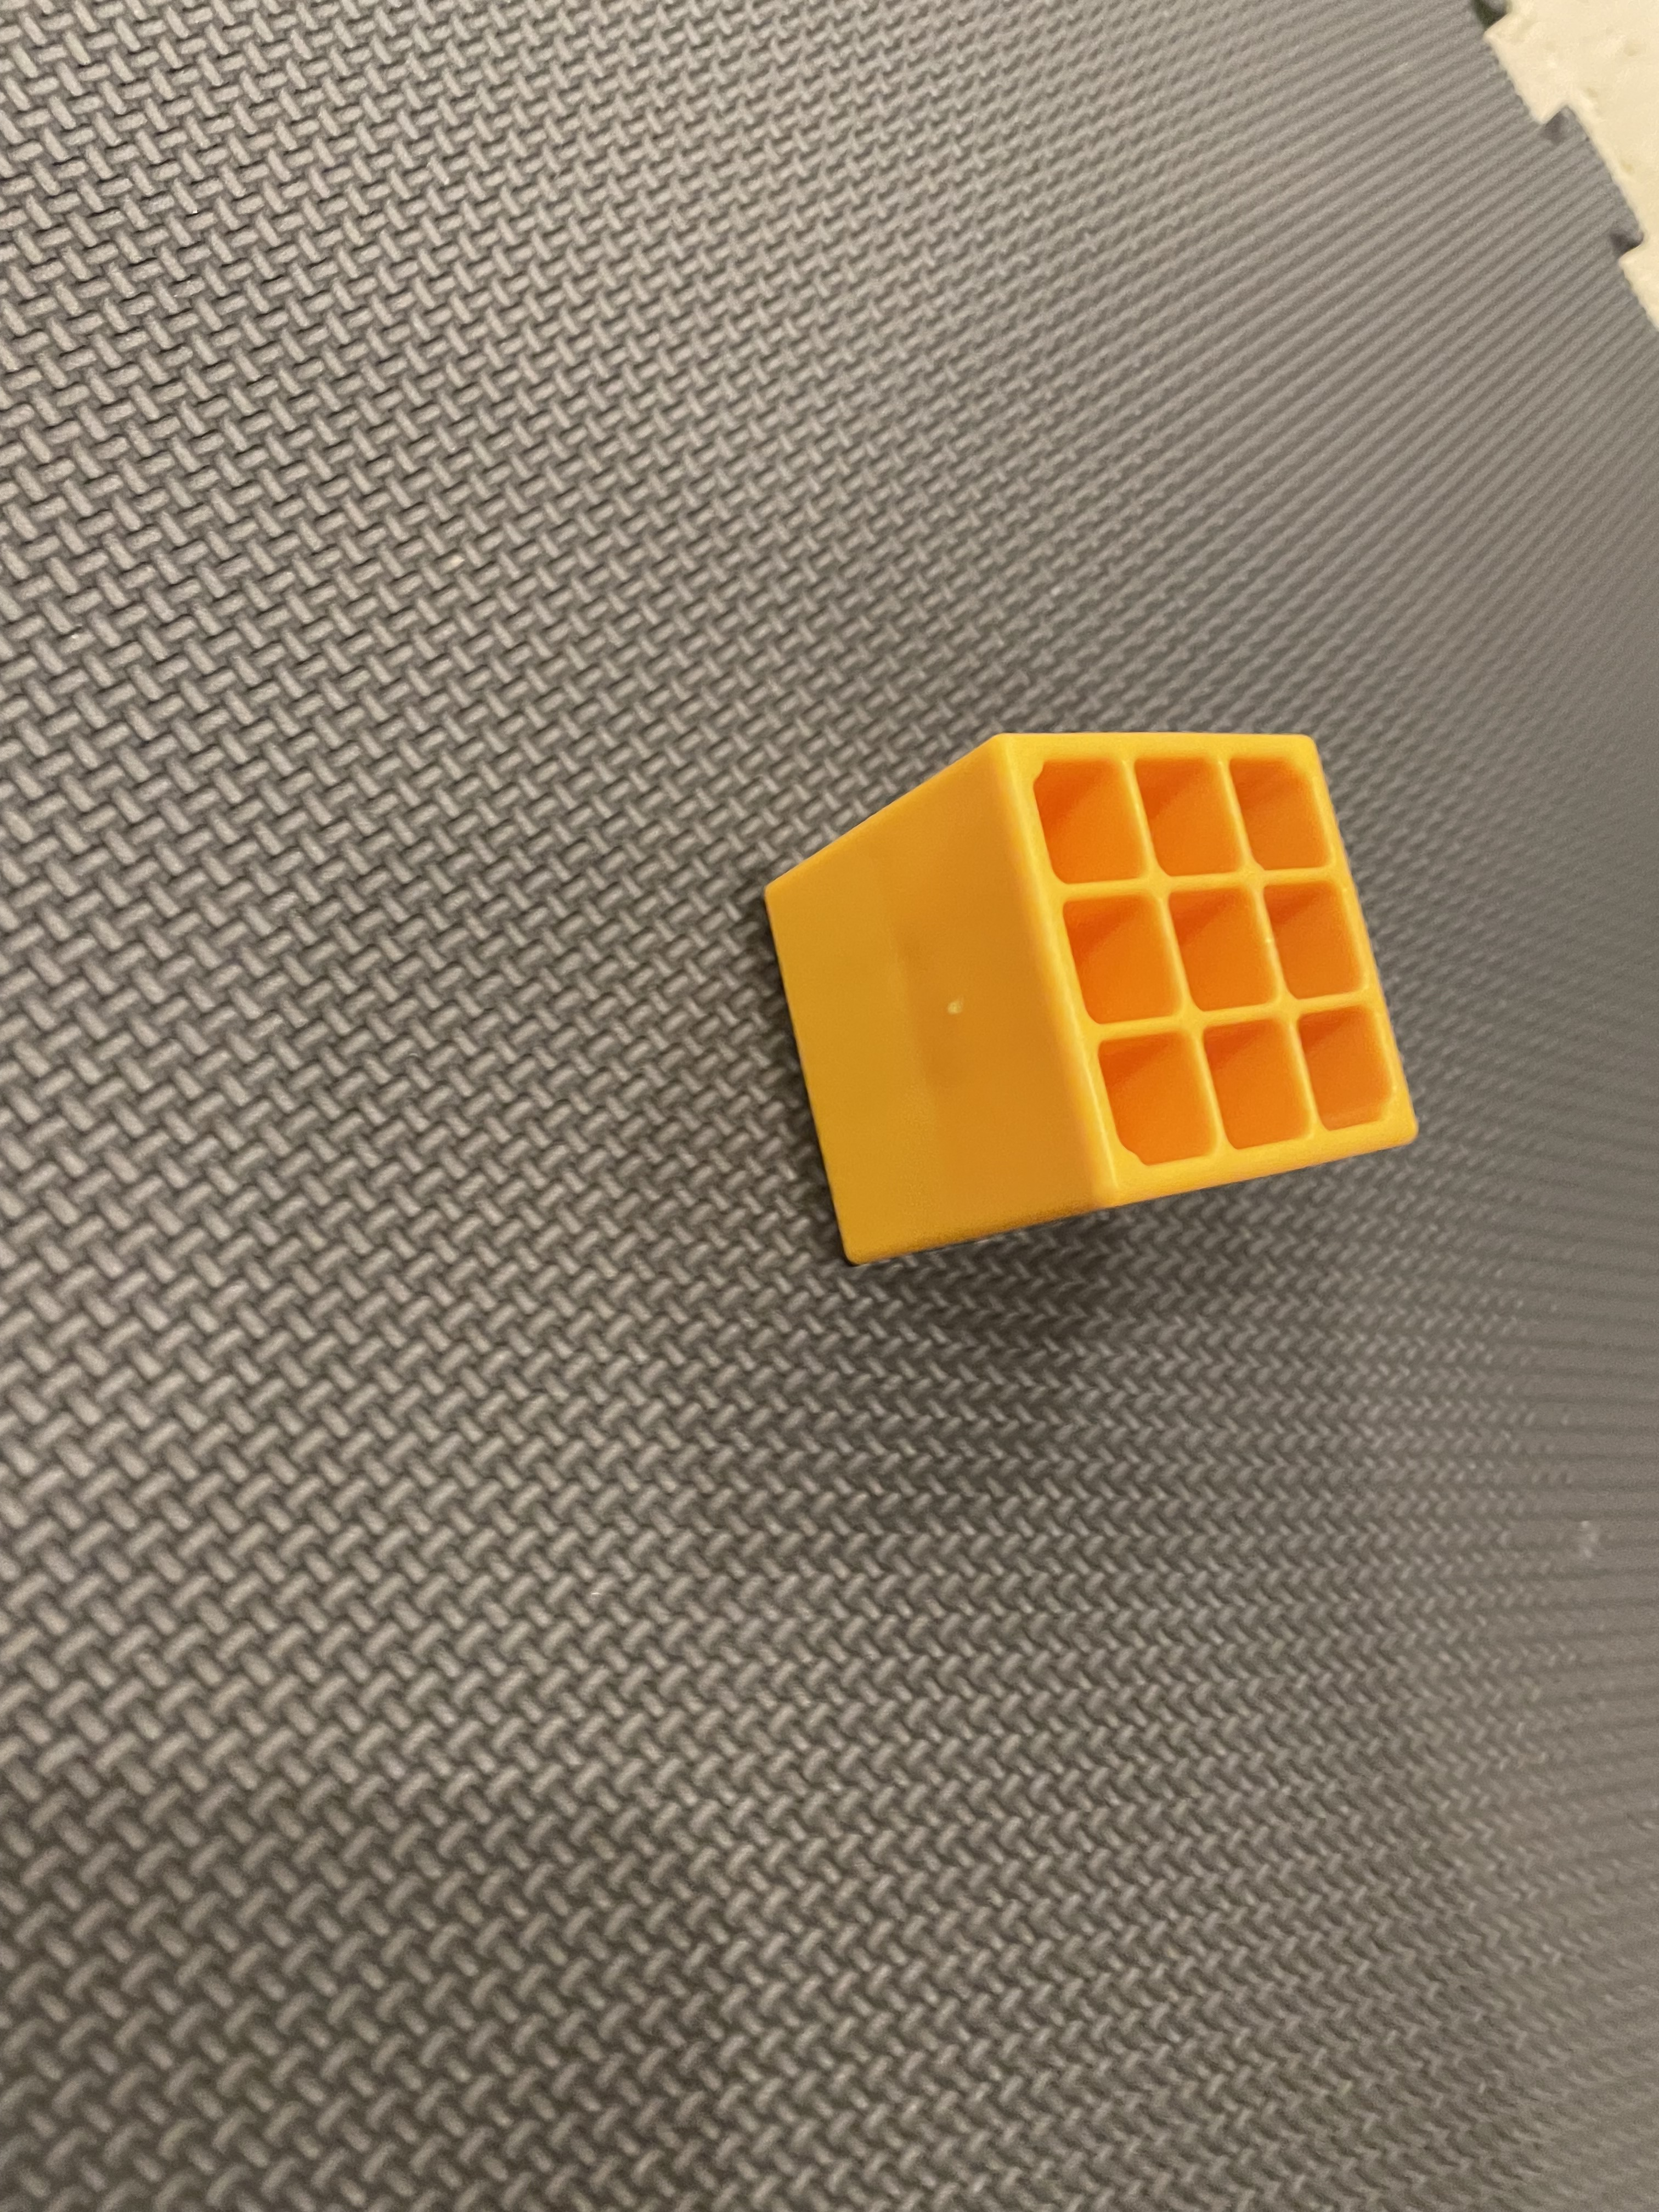cube: (704, 610, 1474, 1385)
